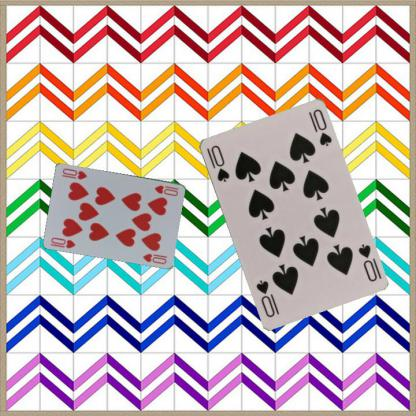10h: (48, 235, 77, 249), (152, 183, 180, 197)
10s: (204, 142, 231, 183), (355, 241, 378, 283)
